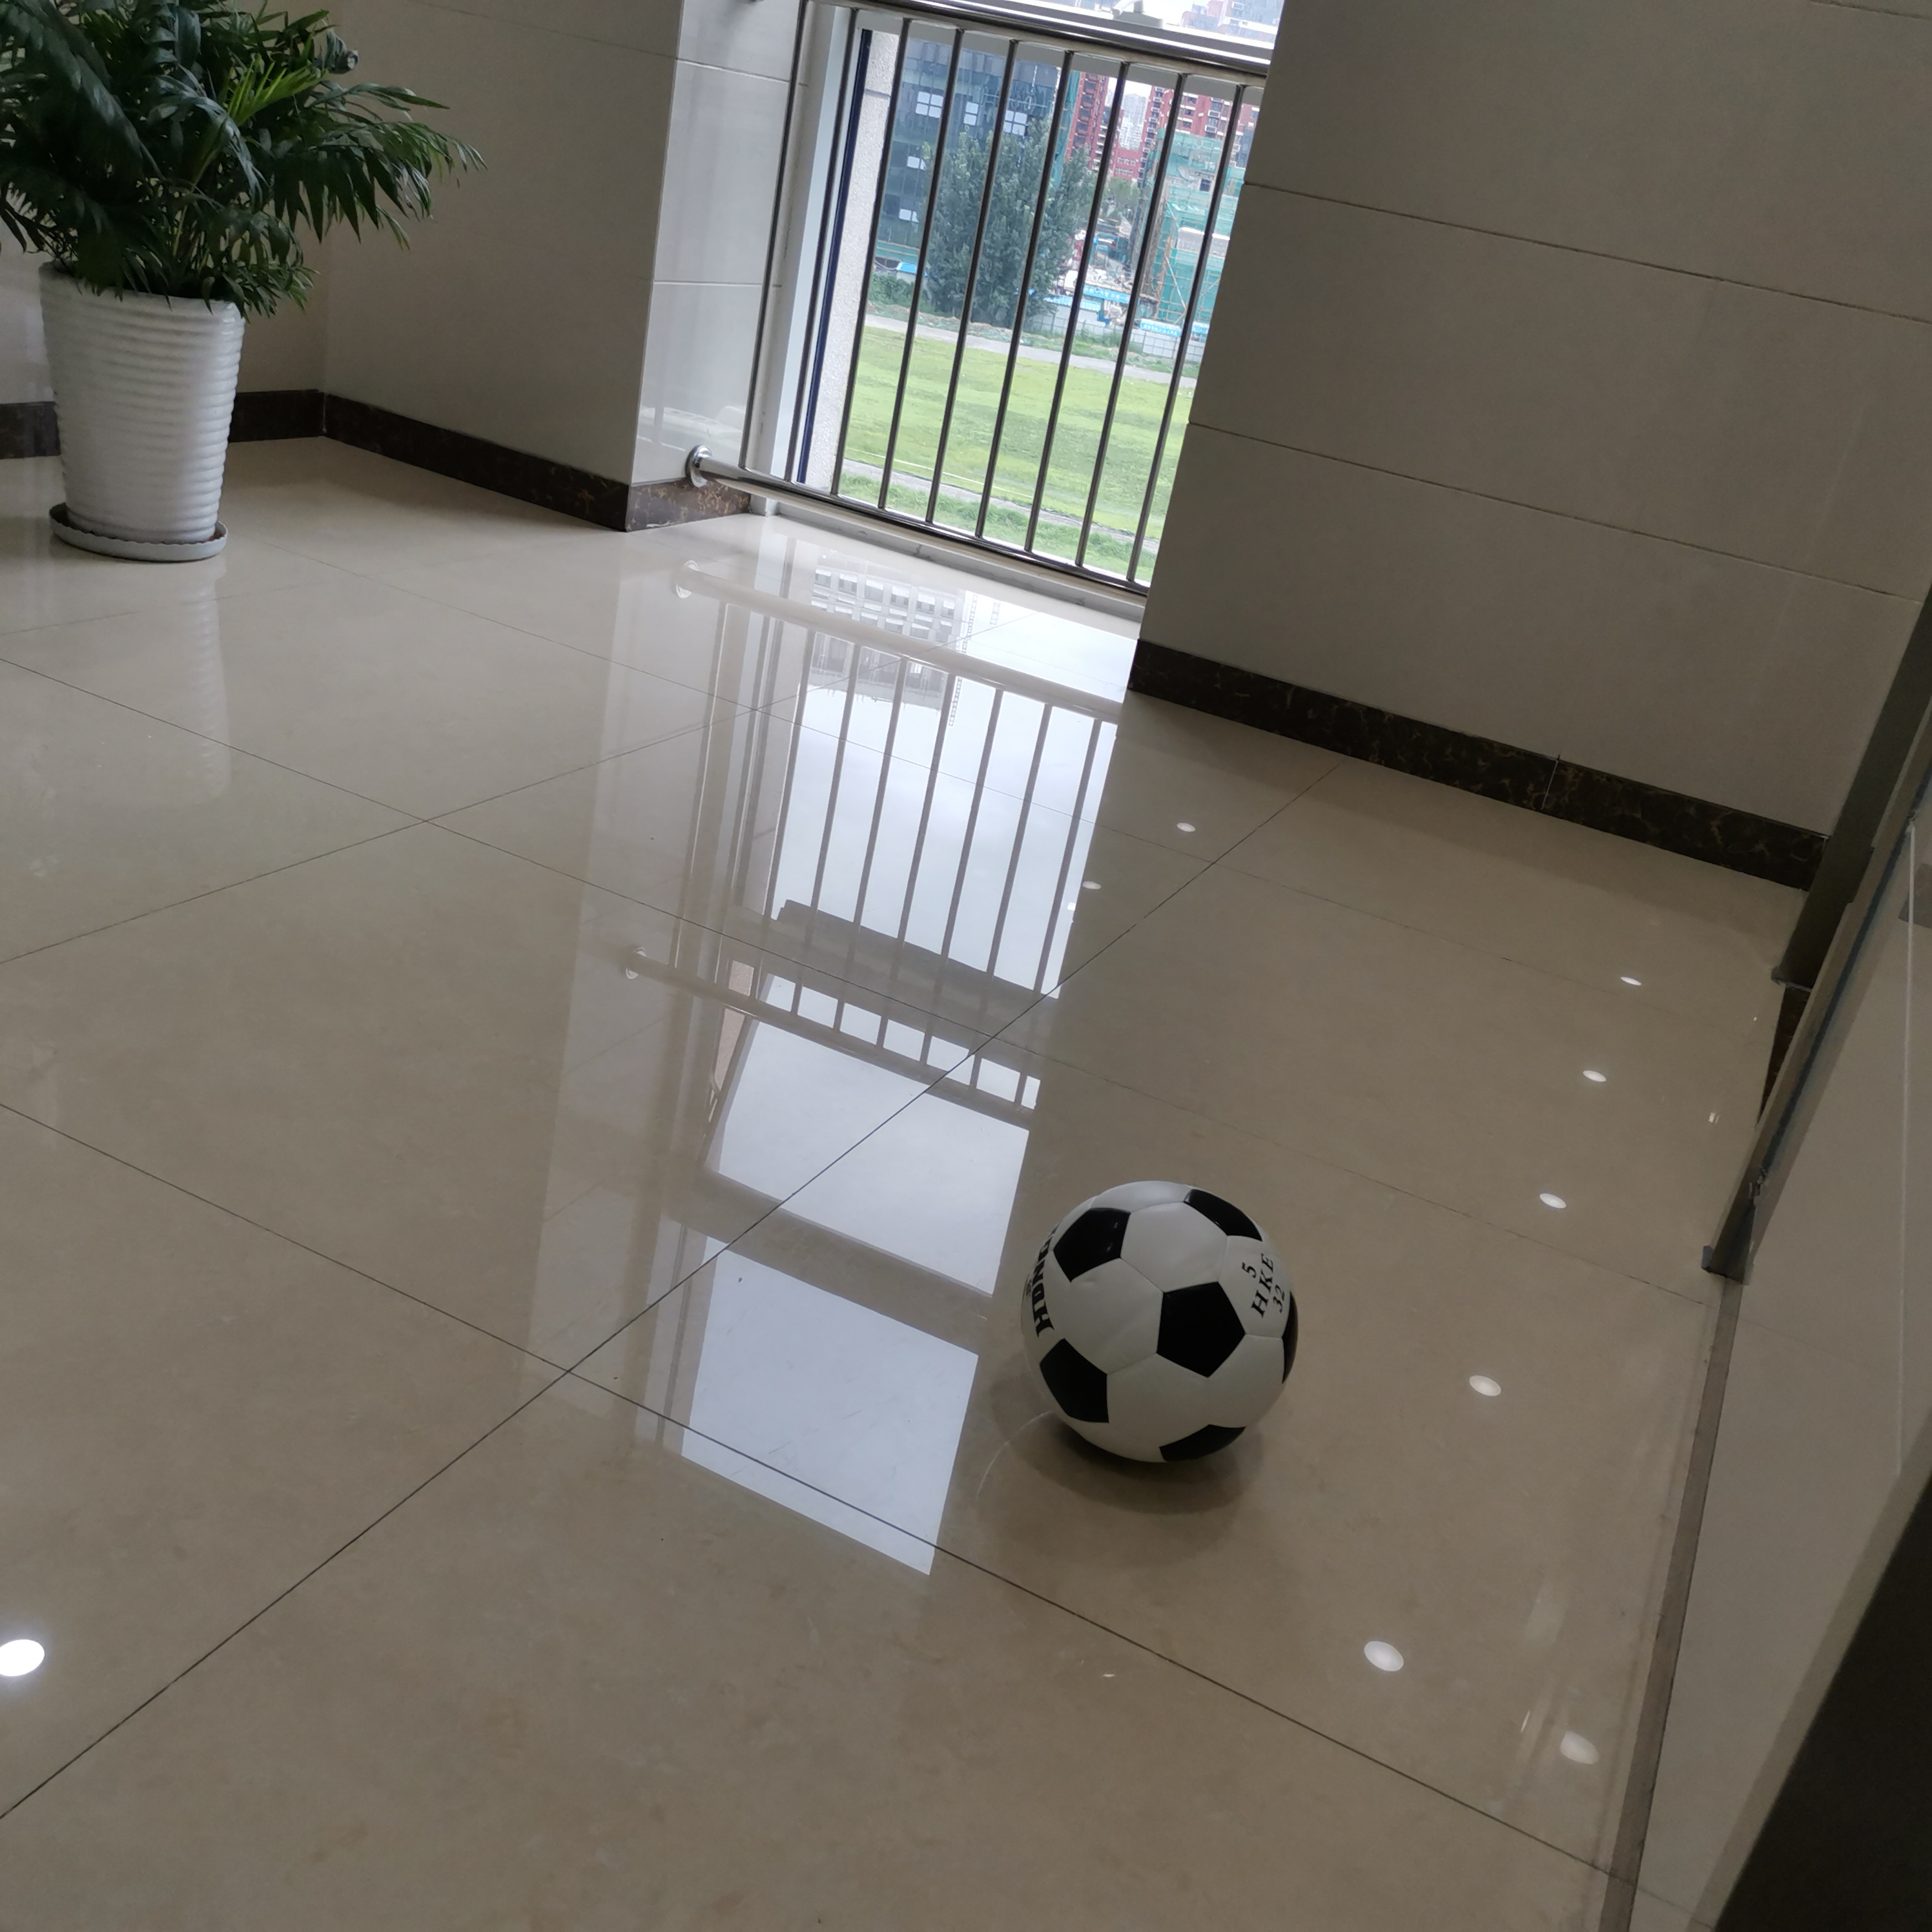football: (1021, 1180, 1299, 1467)
